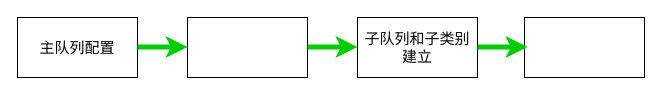
This 662x95 diagram has some shape labels left out. The box of each missing label's shape, as (x1, y1, x2, y2) in pixels:
为所有类别建立过滤器: (524, 16, 644, 78)
主类别配置: (186, 16, 308, 78)
